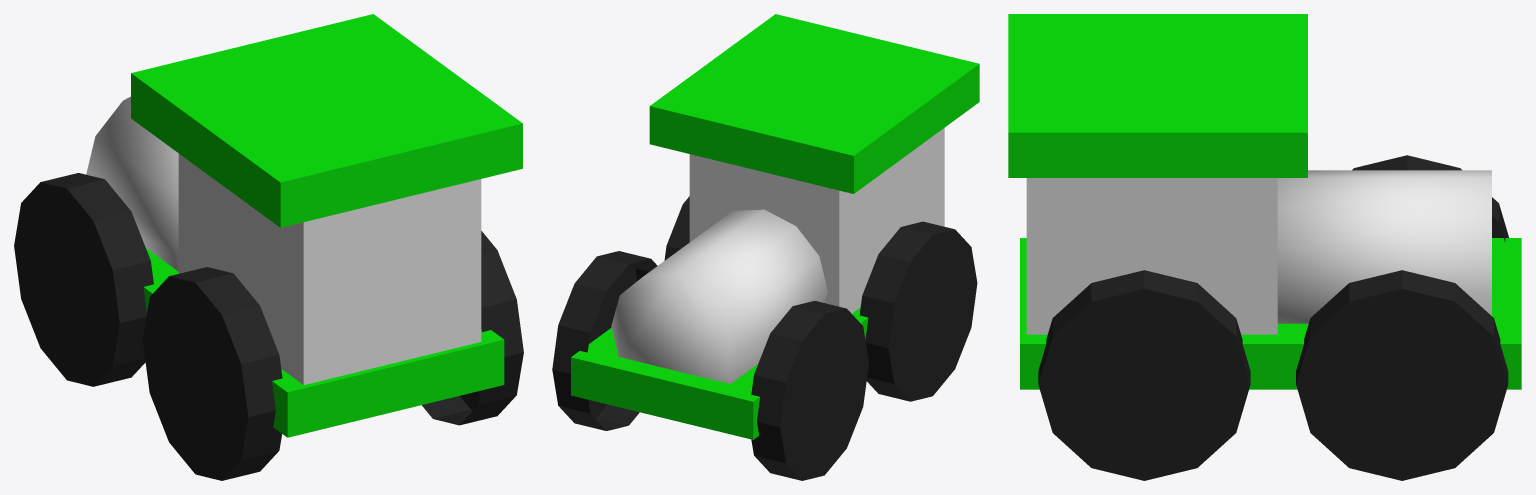
The model's file is train-green.glb.
3 views of the same model, side by side, from view 1: azimuth 30°, elevation 25°; view 2: azimuth 150°, elevation 25°; view 3: azimuth 270°, elevation 25° (orthographic). The views are drawn at different scales.
Parts seen in each view (by area): view 1: Cube.002, Cube.001, Cylinder.003, Cylinder.004, Cube, Cylinder.001, Cylinder; view 2: Cube.002, Cylinder.001, Cube.001, Cylinder.004, Cylinder.003, Cube, Cylinder.002, Cylinder; view 3: Cube.002, Cylinder, Cylinder.002, Cube.001, Cylinder.001, Cube, Cylinder.004.
Boxes of the visible parts, <box> form: Cube.002: <box>131,14,522,227</box>; Cube.001: <box>178,153,481,384</box>; Cylinder.003: <box>142,267,282,480</box>; Cylinder.004: <box>14,173,153,386</box>; Cube: <box>143,248,504,437</box>; Cylinder.001: <box>86,96,178,271</box>; Cylinder: <box>422,231,523,425</box>; Cube.002: <box>649,14,979,193</box>; Cylinder.001: <box>611,209,827,383</box>; Cube.001: <box>689,128,944,313</box>; Cylinder.004: <box>751,301,868,480</box>; Cylinder.003: <box>859,221,977,401</box>; Cube: <box>571,307,868,439</box>; Cylinder.002: <box>552,251,657,430</box>; Cylinder: <box>664,196,689,260</box>; Cube.002: <box>1008,14,1307,177</box>; Cylinder: <box>1038,270,1250,480</box>; Cylinder.002: <box>1296,270,1508,480</box>; Cube.001: <box>1026,178,1277,334</box>; Cylinder.001: <box>1277,170,1491,323</box>; Cube: <box>1020,238,1521,389</box>; Cylinder.004: <box>1352,155,1508,242</box>.
Size of the model in its own units: 2.52 by 3 by 4.09.
